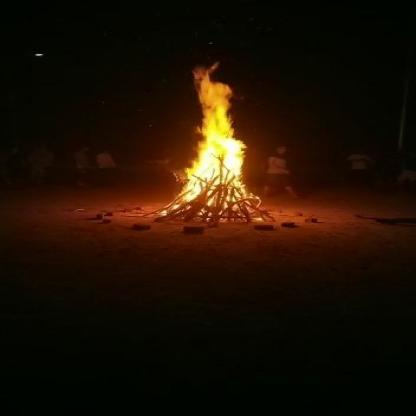fire: (158, 58, 268, 197)
